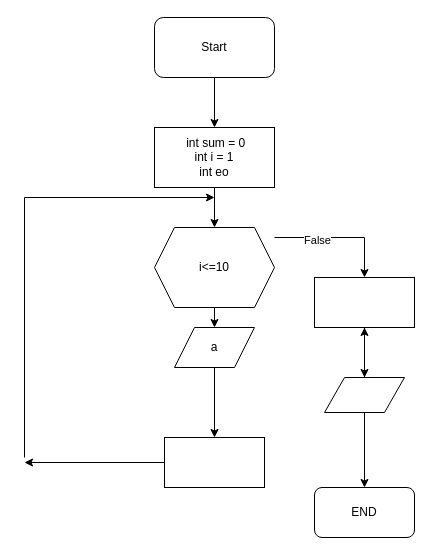
Some shapes in this 432 by 555 pixel diagram are drawn without their labels. Each missing label, with the centre of its shape:
eo: (x=364, y=394)
eo = s / 10: (x=364, y=302)
s = s + a i = i + 1: (x=214, y=462)
